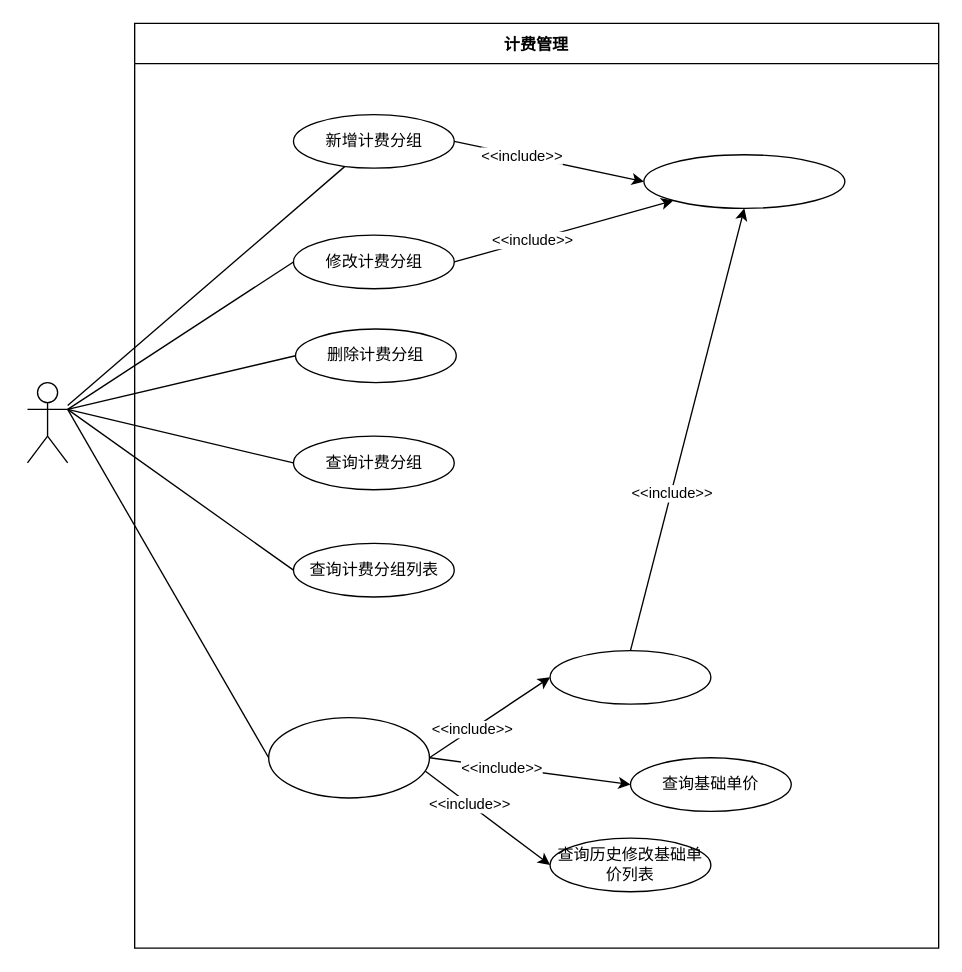
The diagram is 962 pixels wide and 972 high, and some of its shapes have lost their labels. The shapes that lost their labels are listed below. From the top down, each one's centre as x and y in pixels, then its label:
At pixel 744 180: "计算计费分组时间段内单价费用".
At pixel 47 422: "管理员".
At pixel 630 676: "修改基础单价".
At pixel 348 757: "基础单价管理".
